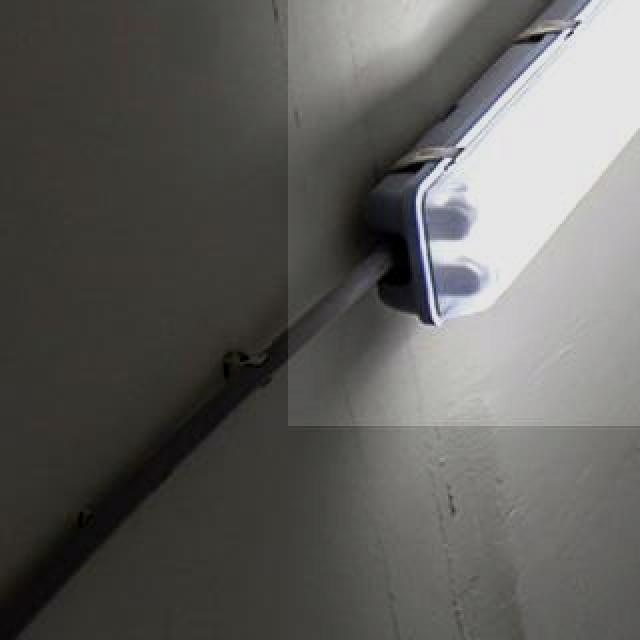fluorescent tube: (354, 0, 640, 352)
